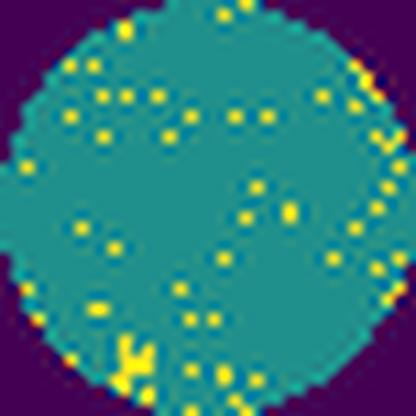Loc: (115, 330, 158, 388)
